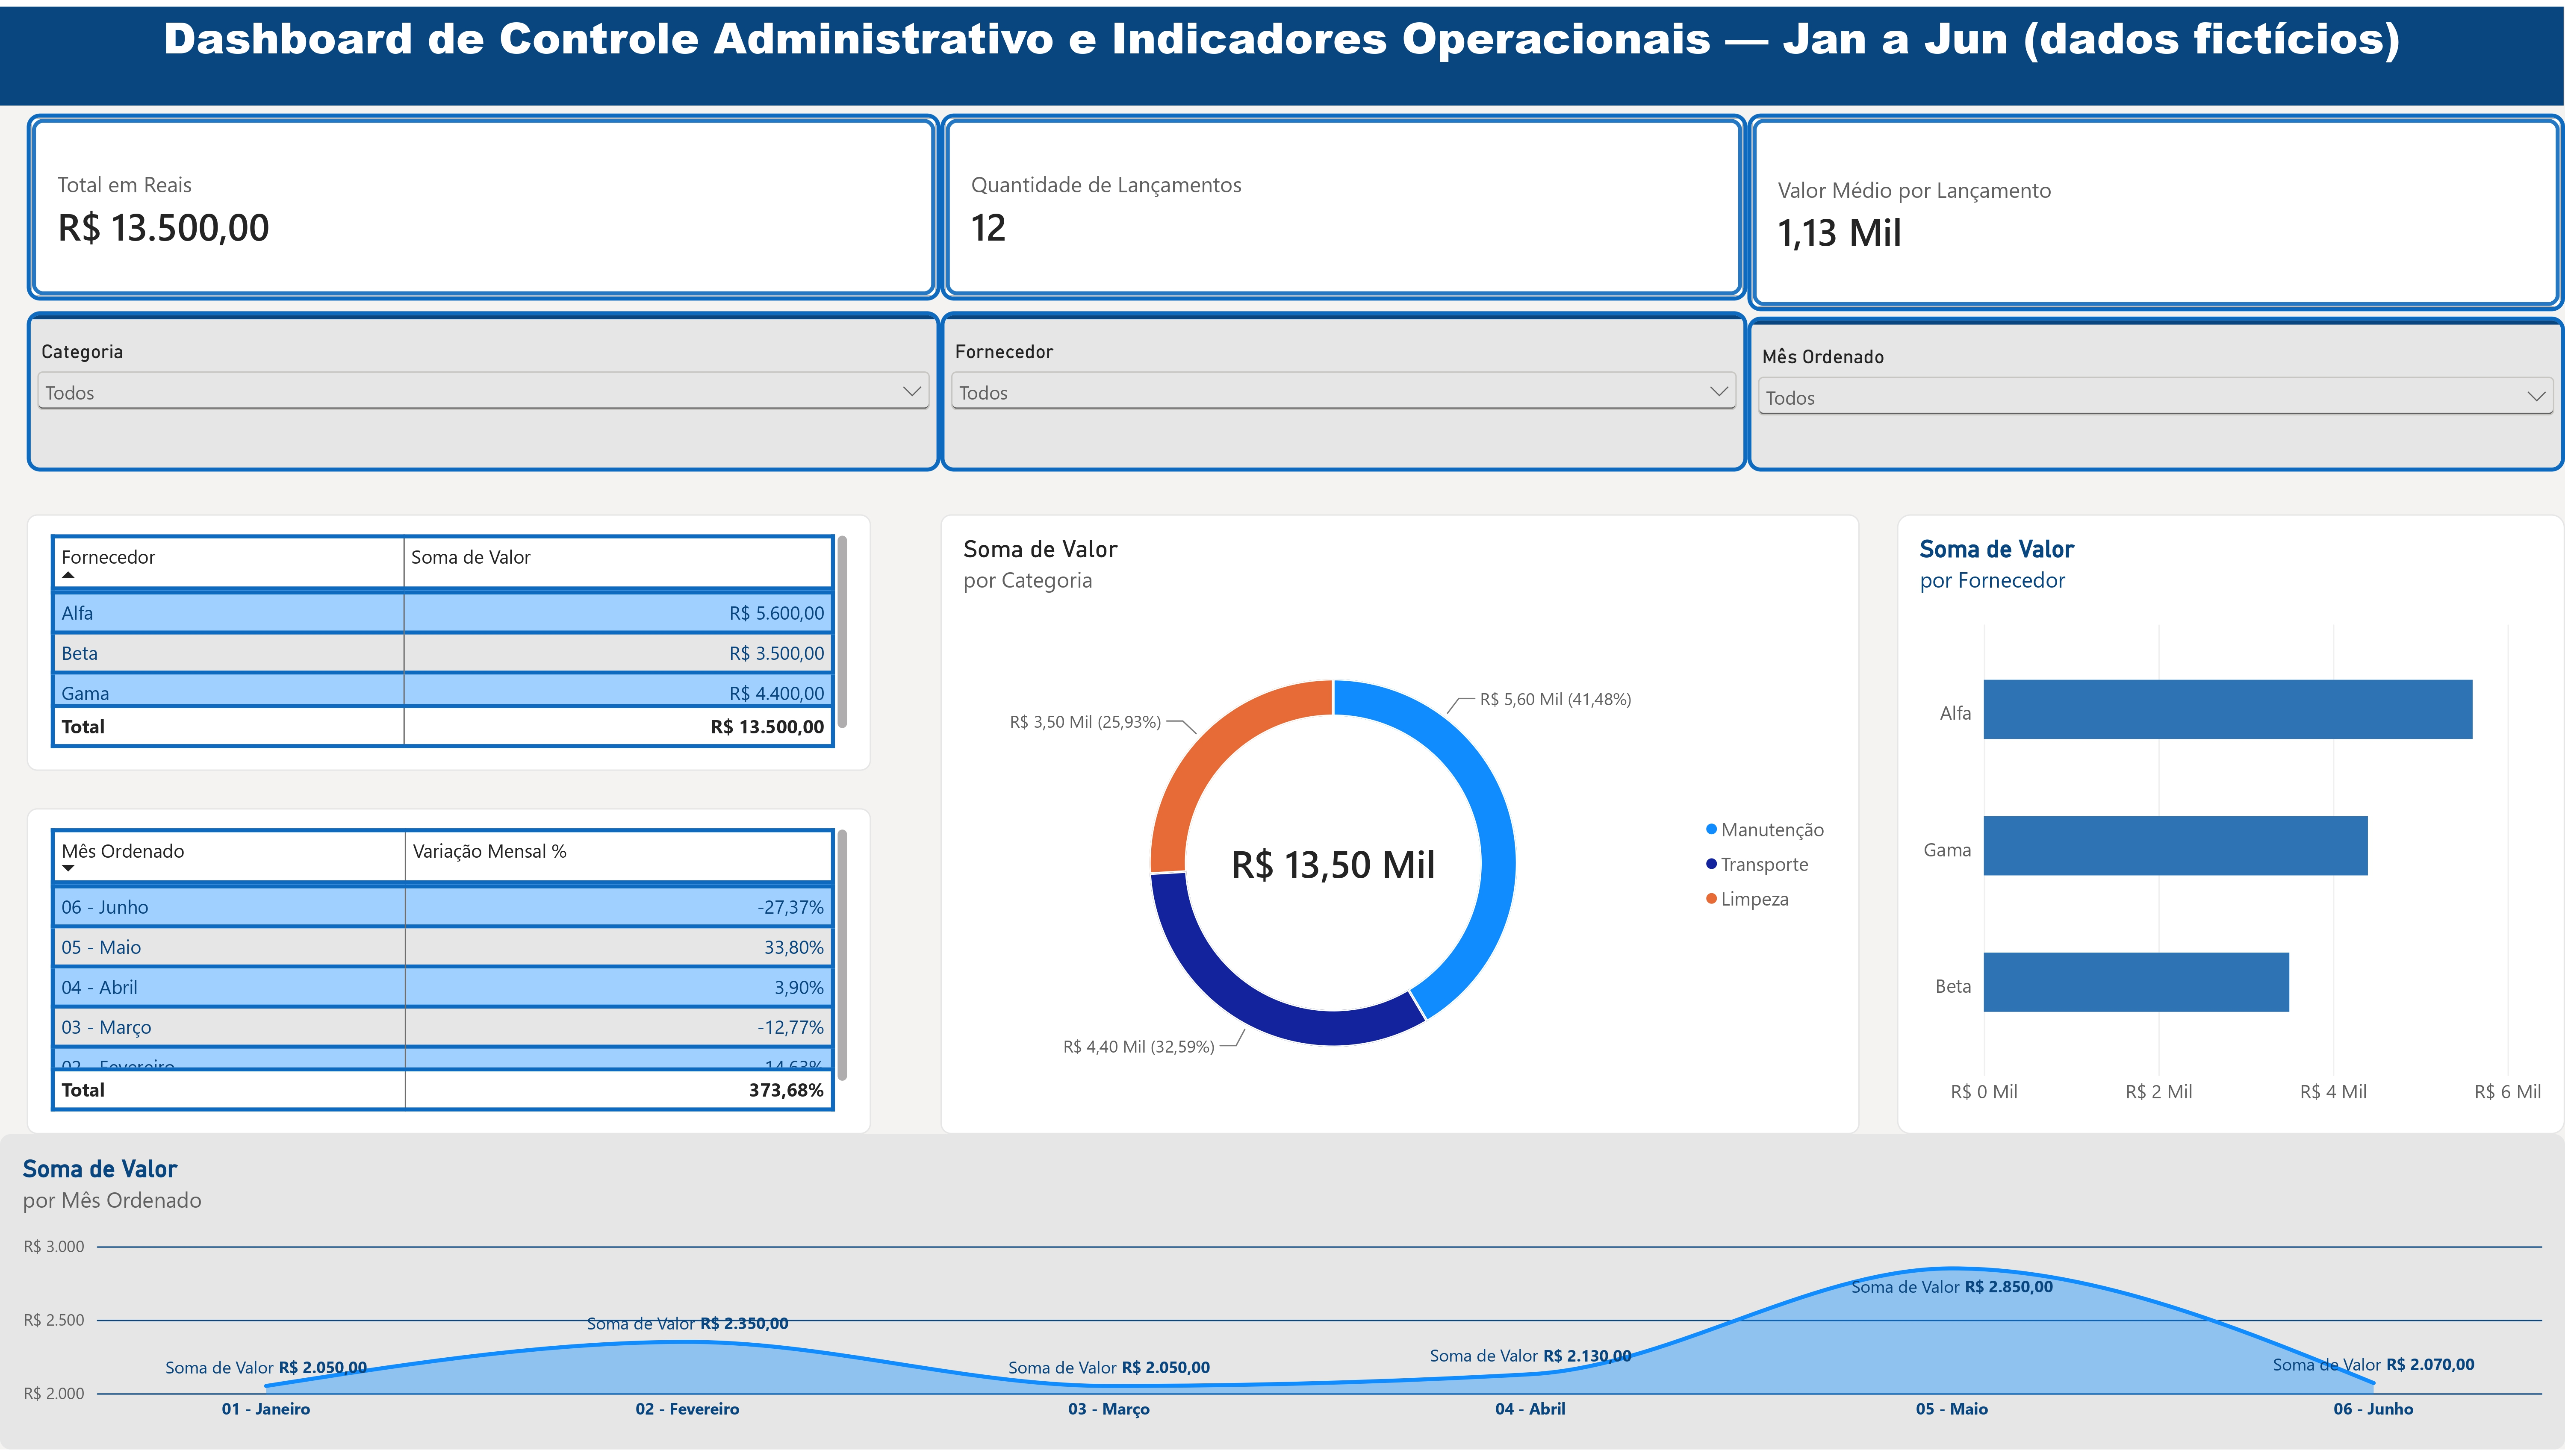

What the dashboard file says about the page in this screenshot:
{"tool":"powerbi","page":{"name":"Página 1","canvas":[1920,1080],"ordinal":0},"visuals":[{"type":"cardVisual","fields":{"Data":["ControleAdministrativo.Total em Reais"]},"box":[20,80,684,140],"z":0},{"type":"lineChart","fields":{"Category":["ControleAdministrativo.Mês Ordenado"],"Y":["Sum(ControleAdministrativo.Valor)"]},"box":[0,844,1920,236],"z":1000},{"type":"tableEx","fields":{"Values":["ControleAdministrativo.Mês Ordenado","ControleAdministrativo.Variação Mensal %"]},"box":[20,600,632,244],"z":2000},{"type":"slicer","fields":{"Values":["ControleAdministrativo.Categoria"]},"box":[20,228,684,120],"z":3000},{"type":"slicer","fields":{"Values":["ControleAdministrativo.Fornecedor"]},"box":[704,228,604,120],"z":4000},{"type":"slicer","fields":{"Values":["ControleAdministrativo.Mês Ordenado"]},"box":[1308,232,612,116],"z":5000},{"type":"donutChart","fields":{"Category":["ControleAdministrativo.Categoria"],"Y":["Sum(ControleAdministrativo.Valor)"]},"box":[704,380,688,464],"z":6000},{"type":"barChart","fields":{"Category":["ControleAdministrativo.Fornecedor"],"Y":["Sum(ControleAdministrativo.Valor)"]},"box":[1420,380,500,464],"z":7000},{"type":"tableEx","fields":{"Values":["ControleAdministrativo.Fornecedor","Sum(ControleAdministrativo.Valor)"]},"box":[20,380,632,192],"z":8000},{"type":"cardVisual","fields":{"Data":["ControleAdministrativo.Quantidade de Lançamentos"]},"box":[704,80,604,140],"z":9000},{"type":"cardVisual","fields":{"Data":["ControleAdministrativo.Valor Médio por Lançamento"]},"box":[1308,80,612,148],"z":10000},{"type":"textbox","box":[0,0,1919,73.8],"z":11000}]}

Visuals, with their boxes in screenshot pixels (x1, y1, x2, y2), scaled from the page's 1920x1080 canvas onto the 2565x1456 screenshot:
cardVisual - ControleAdministrativo.Total em Reais: box=[27, 108, 940, 297]
lineChart - ControleAdministrativo.Mês Ordenado x Sum(ControleAdministrativo.Valor): box=[0, 1138, 2565, 1456]
tableEx - ControleAdministrativo.Mês Ordenado x ControleAdministrativo.Variação Mensal %: box=[27, 809, 871, 1138]
slicer - ControleAdministrativo.Categoria: box=[27, 307, 940, 469]
slicer - ControleAdministrativo.Fornecedor: box=[940, 307, 1748, 469]
slicer - ControleAdministrativo.Mês Ordenado: box=[1748, 313, 2565, 469]
donutChart - ControleAdministrativo.Categoria x Sum(ControleAdministrativo.Valor): box=[940, 512, 1860, 1138]
barChart - ControleAdministrativo.Fornecedor x Sum(ControleAdministrativo.Valor): box=[1897, 512, 2565, 1138]
tableEx - ControleAdministrativo.Fornecedor x Sum(ControleAdministrativo.Valor): box=[27, 512, 871, 771]
cardVisual - ControleAdministrativo.Quantidade de Lançamentos: box=[940, 108, 1748, 297]
cardVisual - ControleAdministrativo.Valor Médio por Lançamento: box=[1748, 108, 2565, 307]
textbox: box=[0, 0, 2564, 100]
